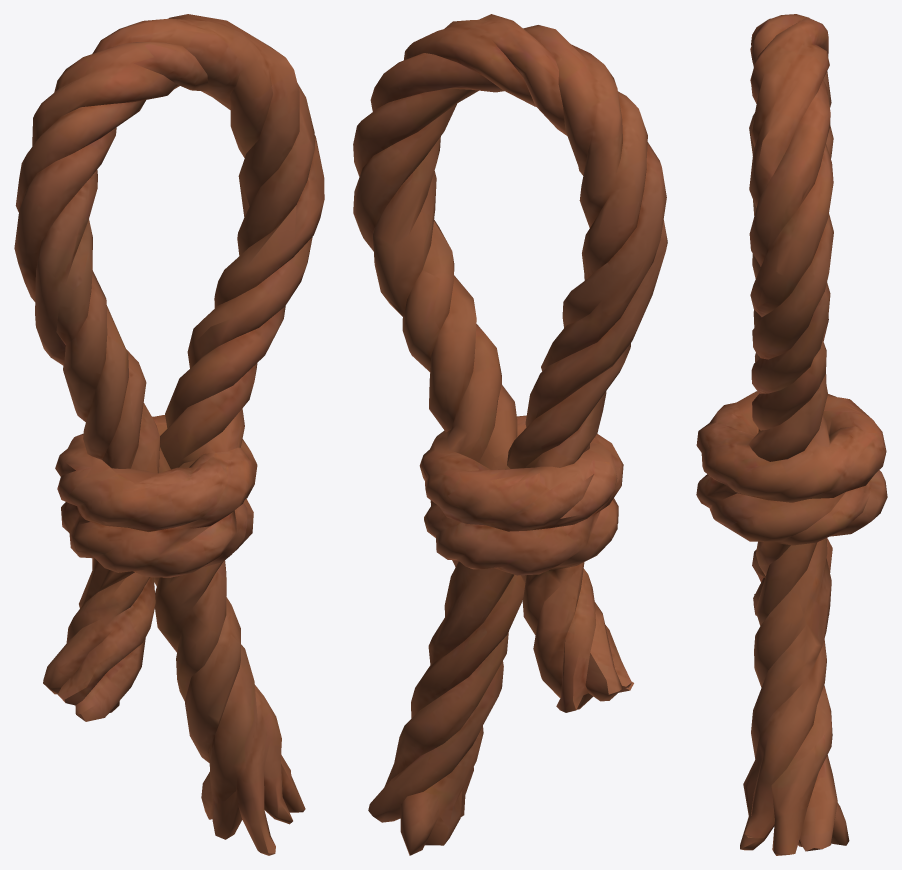
The model's file is wrist_rope_idle.glb.
The picture shows the model from 3 angles, left to right: view 1: azimuth 30°, elevation 25°; view 2: azimuth 150°, elevation 25°; view 3: azimuth 270°, elevation 25°; orthographic projection. The views are drawn at different scales.
Parts seen in each view (by area): view 1: item_rope_loop; view 2: item_rope_loop; view 3: item_rope_loop.
Boxes of the visible parts, x1,y1,x2,y2 form: item_rope_loop: [14, 14, 324, 855]; item_rope_loop: [353, 14, 667, 855]; item_rope_loop: [696, 14, 887, 855].
Size of the model in its own units: 0.2272 by 0.5997 by 0.1322.
1 material, 1 textured.
